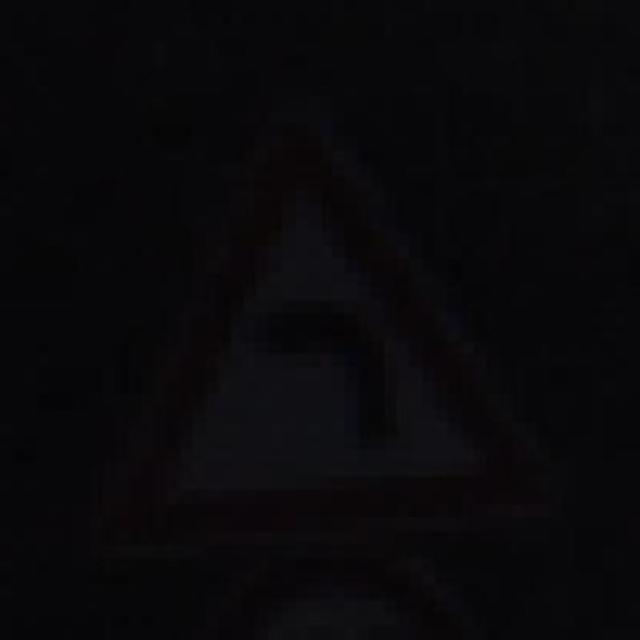Dangerous Left Curve Ahead: (116, 95, 524, 572)
